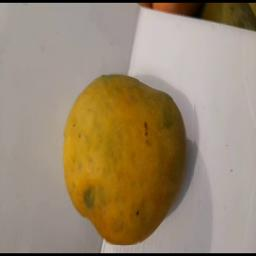Mango Fresh: (55, 68, 195, 245)
